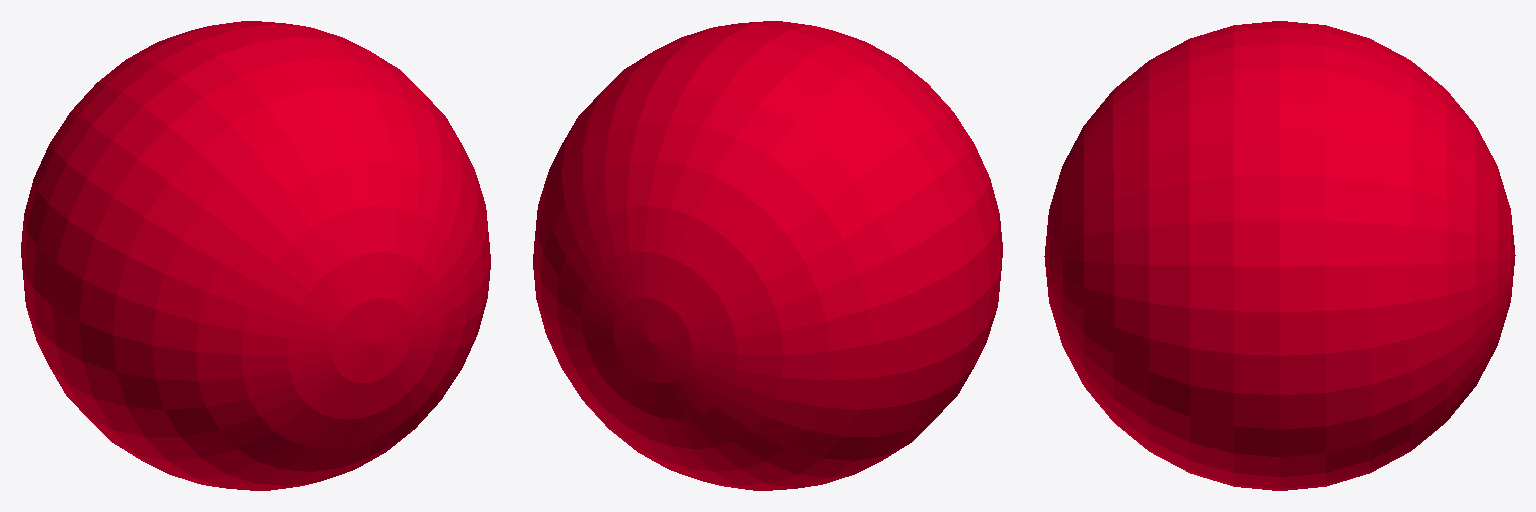
robot.urdf — universal_robot:
<?xml version="1.0"?>
<!--FOR GRIPPER, THERE IS NO LINK INERTIA DEFINED HERE-->
<robot name="universal_robot">

  <!-- Colors -->
  <material name="DarkGrey">
    <color rgba="0.2 0.2 0.2 1.0"/>
  </material>
  <material name="Grey">
    <color rgba="0.4 0.4 0.4 1.0"/>
  </material>
  <material name="Orange">
    <color rgba="1.0 0.423529411765 0.0392156862745 1.0"/>
  </material>
  <material name="Blue">
    <color rgba="0 0.1 1.0 1.0"/>
  </material>
  <material name="LightGrey">
    <color rgba="0.7 0.7 0.7 1.0"/>
  </material>
  <material name="Red">
    <color rgba="0.9 0 0.2 1.0"/>
  </material>
  <material name="TransparentRed">
    <color rgba="0.9 0 0.2 0.5"/>
  </material>
  <material name="Green">
    <color rgba="0 0.9 0.5 1.0"/>
  </material>
  <material name="Yellow">
    <color rgba="0.7 0.7 0 1.0"/>
  </material>
  <material name="LightBlue">
    <color rgba="0. 0.3 1.0 1.0"/>
  </material>
  <material name="Black">
    <color rgba="0.05 0.05 0.05 1.0"/>
  </material>
  <material name="White">
    <color rgba="1.0 1.0 1.0 1.0" />
  </material>



    <!-- connect arm to world -->
      <link name="world"/>
      <joint name="world_joint" type="fixed">
        <parent link="world"/>
        <child link="base_link"/>
        <origin rpy="0.0 0.0 -3.14" xyz="0.0 0.0 0.0"/>
      </joint>


      <link name="base_link">
        <visual>
          <geometry>
            <mesh filename="visual/base.obj"/>
          </geometry>
          <material name="LightGrey"/>
        </visual>
        <collision>
          <geometry>
            <mesh filename="collision/base.stl"/>
          </geometry>
        </collision>
        <inertial>
          <mass value="4.0"/>
          <origin rpy="0 0 0" xyz="0.0 0.0 0.0"/>
          <inertia ixx="0.00443333156" ixy="0.0" ixz="0.0" iyy="0.00443333156" iyz="0.0" izz="0.0072"/>
        </inertial>
      </link>

      <joint name="base_joint" type="revolute">
        <parent link="base_link"/>
        <child link="shoulder_link"/>
        <origin rpy="0.0 0.0 0.0" xyz="0.0 0.0 0.089159"/>
        <axis xyz="0 0 1"/>
        <limit effort="150.0" lower="-100" upper="100" velocity="3.15"/>
        <dynamics damping="0.5" friction="0.0"/>
      </joint>

      <link name="shoulder_link">
        <visual>
          <geometry>
            <mesh filename="visual/shoulder.obj"/>
          </geometry>
          <material name="DarkGrey"/>
        </visual>
        <collision>
          <geometry>
            <mesh filename="collision/shoulder.stl"/>
          </geometry>
        </collision>
        <inertial>
          <mass value="3.7"/>
          <origin rpy="0 0 0" xyz="0.0 0.0 0.0"/>
          <inertia ixx="0.010267495893" ixy="0.0" ixz="0.0" iyy="0.010267495893" iyz="0.0" izz="0.00666"/>
        </inertial>
      </link>

      <joint name="shoulder_joint" type="revolute">
        <parent link="shoulder_link"/>
        <child link="upper_arm_link"/>
        <origin rpy="0.0 1.57079632679 0.0" xyz="0.0 0.13585 0.0"/>
        <axis xyz="0 1 0"/>
        <limit effort="150.0" lower="-100" upper="100" velocity="3.15"/>
        <dynamics damping="0.5" friction="0.0"/>
      </joint>

      <link name="upper_arm_link">
        <visual>
          <geometry>
            <mesh filename="visual/upperarm.obj"/>
          </geometry>
          <material name="LightGrey"/>
        </visual>
        <collision>
          <geometry>
            <mesh filename="collision/upperarm.stl"/>
          </geometry>
        </collision>
        <inertial>
          <mass value="8.393"/>
          <origin rpy="0 0 0" xyz="0.0 0.0 0.28"/>
          <inertia ixx="0.22689067591" ixy="0.0" ixz="0.0" iyy="0.22689067591" iyz="0.0" izz="0.0151074"/>
        </inertial>
      </link>

      <joint name="elbow_joint" type="revolute">
        <parent link="upper_arm_link"/>
        <child link="forearm_link"/>
        <origin rpy="0.0 0.0 0.0" xyz="0.0 -0.1197 0.425"/>
        <axis xyz="0 1 0"/>
        <limit effort="150.0" lower="-100" upper="100" velocity="3.15"/>
        <dynamics damping="0.5" friction="0.0"/>
      </joint>

      <link name="forearm_link">
        <visual>
          <geometry>
            <mesh filename="visual/forearm.obj"/>
          </geometry>
          <material name="DarkGrey"/>
        </visual>
        <collision>
          <geometry>
            <mesh filename="collision/forearm.stl"/>
          </geometry>
        </collision>
        <inertial>
          <mass value="2.275"/>
          <origin rpy="0 0 0" xyz="0.0 0.0 0.25"/>
          <inertia ixx="0.049443313556" ixy="0.0" ixz="0.0" iyy="0.049443313556" iyz="0.0" izz="0.004095"/>
        </inertial>
      </link>

      <joint name="wrist_1_joint" type="revolute">
        <parent link="forearm_link"/>
        <child link="wrist_1_link"/>
        <origin rpy="0.0 1.57079632679 0.0" xyz="0.0 0.0 0.39225"/>
        <axis xyz="0 1 0"/>
        <limit effort="28.0" lower="-100" upper="100" velocity="3.2"/>
        <dynamics damping="0.5" friction="0.0"/>
      </joint>

      <link name="wrist_1_link">
        <visual>
          <geometry>
            <mesh filename="visual/wrist1.obj"/>
          </geometry>
          <material name="LightGrey"/>
        </visual>
        <collision>
          <geometry>
            <mesh filename="collision/wrist1.stl"/>
          </geometry>
        </collision>
        <inertial>
          <mass value="1.219"/>
          <origin rpy="0 0 0" xyz="0.0 0.0 0.0"/>
          <inertia ixx="0.111172755531" ixy="0.0" ixz="0.0" iyy="0.111172755531" iyz="0.0" izz="0.21942"/>
        </inertial>
      </link>

      <joint name="wrist_2_joint" type="revolute">
        <parent link="wrist_1_link"/>
        <child link="wrist_2_link"/>
        <origin rpy="0.0 0.0 0.0" xyz="0.0 0.093 0.0"/>
        <axis xyz="0 0 1"/>
        <limit effort="28.0" lower="-100" upper="100" velocity="3.2"/>
        <dynamics damping="0.5" friction="0.0"/>
      </joint>

      <link name="wrist_2_link">
        <visual>
          <geometry>
            <mesh filename="visual/wrist2.obj"/>
          </geometry>
          <material name="DarkGrey"/>
        </visual>
        <collision>
          <geometry>
            <mesh filename="collision/wrist2.stl"/>
          </geometry>
        </collision>
        <inertial>
          <mass value="1.219"/>
          <origin rpy="0 0 0" xyz="0.0 0.0 0.0"/>
          <inertia ixx="0.111172755531" ixy="0.0" ixz="0.0" iyy="0.111172755531" iyz="0.0" izz="0.21942"/>
        </inertial>
      </link>

      <joint name="wrist_3_joint" type="revolute">
        <parent link="wrist_2_link"/>
        <child link="wrist_3_link"/>
        <origin rpy="0.0 0.0 0.0" xyz="0.0 0.0 0.09465"/>
        <axis xyz="0 1 0"/>
        <limit effort="28.0" lower="-100" upper="100" velocity="3.2"/>
        <dynamics damping="0.5" friction="0.0"/>
      </joint>

      <link name="wrist_3_link">
        <visual>
          <geometry>
            <mesh filename="visual/wrist3.obj"/>
          </geometry>
          <material name="LightGrey"/>
        </visual>
        <collision>
          <geometry>
            <mesh filename="collision/wrist3.stl"/>
          </geometry>
        </collision>
        <inertial>
          <mass value="0.1879"/>
          <origin rpy="0 0 0" xyz="0.0 0.0 0.0"/>
          <inertia ixx="0.0171364731454" ixy="0.0" ixz="0.0" iyy="0.0171364731454" iyz="0.0" izz="0.033822"/>
        </inertial>
      </link>

      <!-- End Effector -->
      <link name="ee_link">
        <visual>
          <origin rpy="0 0 0" xyz="0 0 0"/>
          <geometry>
            <sphere radius="0.001"/>
          </geometry>
           <material name="Red"/>
        </visual>
        <collision>
          <geometry>
            <sphere radius="0.001"/>
          </geometry>
          <origin rpy="0 0 0" xyz="0.0 0 0"/>
        </collision>
        <inertial>
          <mass value="0.0"/>
          <origin rpy="-3.14 0.0 1.57" xyz="0.0 0.0 0.0"/>
          <inertia ixx="0.001" ixy="0.0" ixz="0.0" iyy="0.001" iyz="0.0" izz="0.001"/>
        </inertial>
      </link>

      <joint name="ee_joint" type="fixed">
        <parent link="wrist_3_link"/>
        <child link="ee_link"/>
        <origin rpy="1.57 3.14 0.0" xyz="0.0 0.0823 0.0"/>
      </joint>
</robot>

--- Render facts (derived) ---
Views: 3 orthographic renders of the robot side by side, from view 1: azimuth 30°, elevation 25°; view 2: azimuth 150°, elevation 25°; view 3: azimuth 270°, elevation 25°.
Model universal_robot with 9 links and 8 joints (6 revolute, 2 fixed), rooted at world, posed every joint at zero.
Links seen in each view (by area): view 1: ee_link; view 2: ee_link; view 3: ee_link.
Link boxes in pixels (bbox=[...]): ee_link: bbox=[21, 21, 490, 490]; ee_link: bbox=[533, 21, 1002, 490]; ee_link: bbox=[1044, 21, 1515, 490].
Bounding box of the posed robot: 0.002 × 0.002 × 0.002 m (x, y, z).
0 mesh visuals loaded from 7 distinct referenced files (none loaded); not drawn: 7 (reference not matched to a file when rendering).